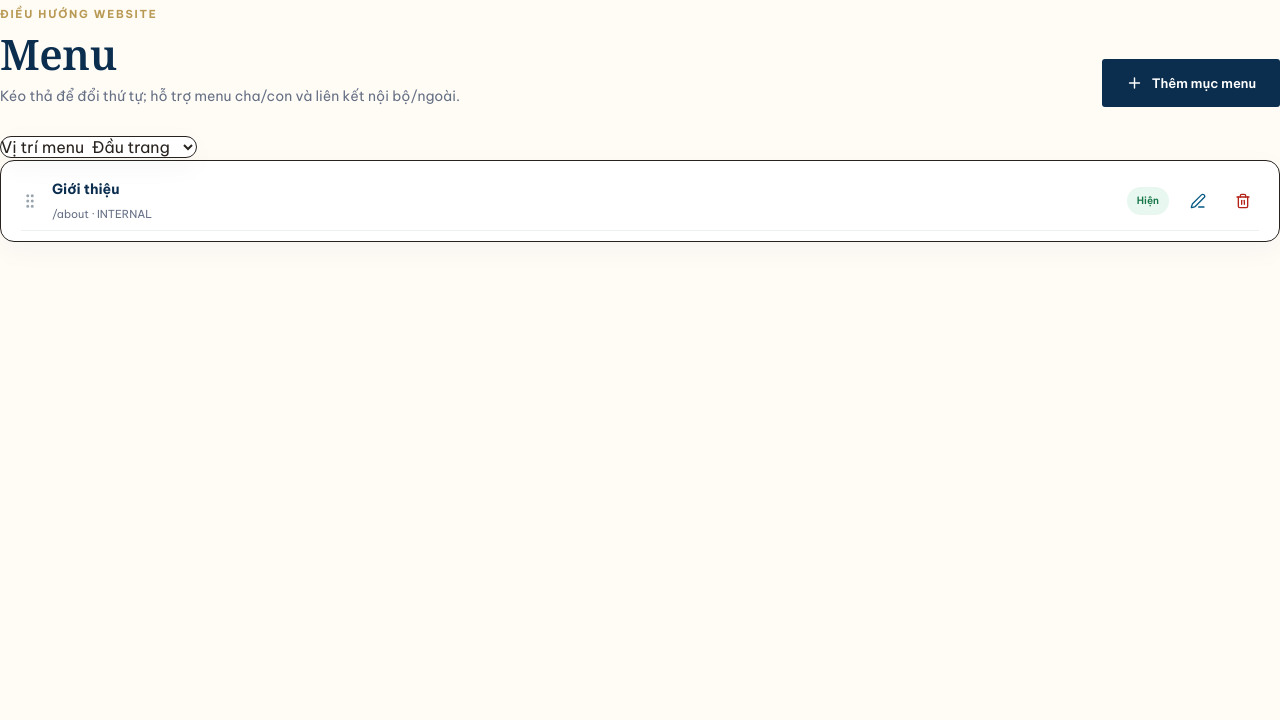
MenuManagerPage dialog save › names item actions and blocks duplicate submission and dismissal while saving
The image size is (1280, 720).
Later steps or results of the test are not shown.
Expected: the button named "Xóa mục menu Giới thiệu" is shown, [1227,181,1259,221]
Click the button named "Chỉnh sửa mục menu Giới thiệu".
click(1198, 201)  # box [1182,181,1214,221]
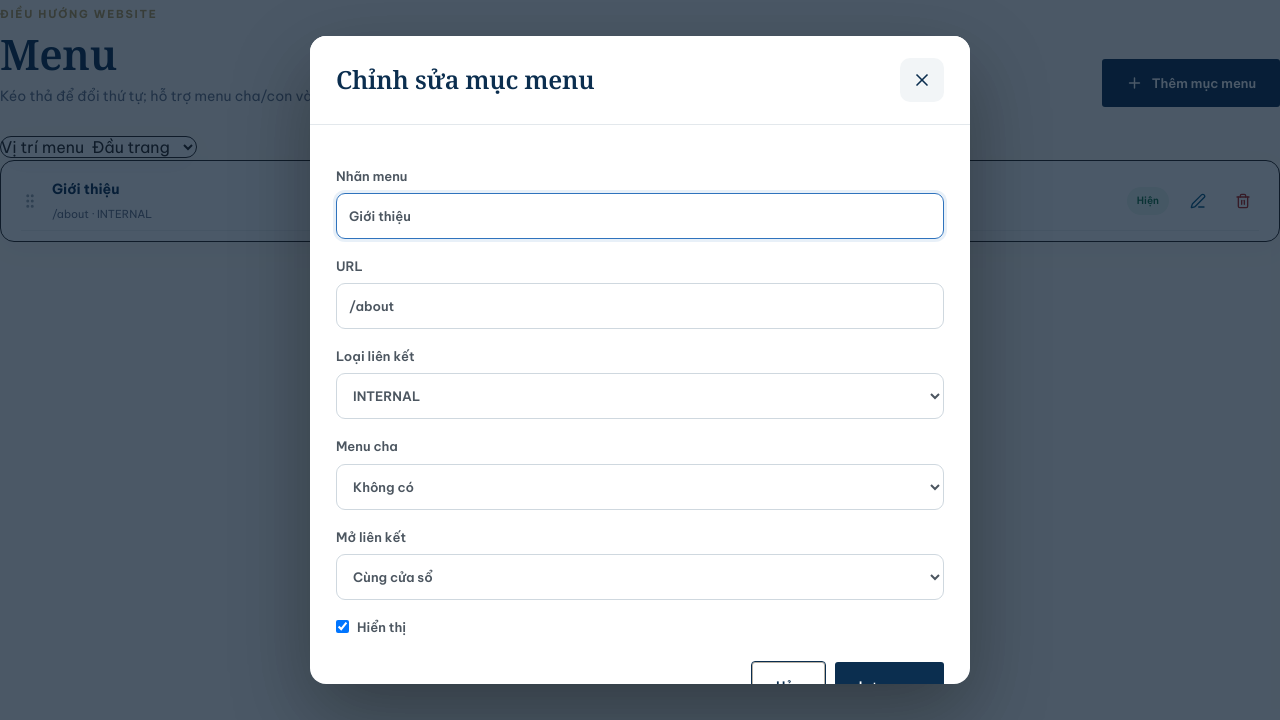
Submit the form "Lưu menu", box [336,166,944,710]
Submit the form "Lưu menu", box [336,166,944,710]
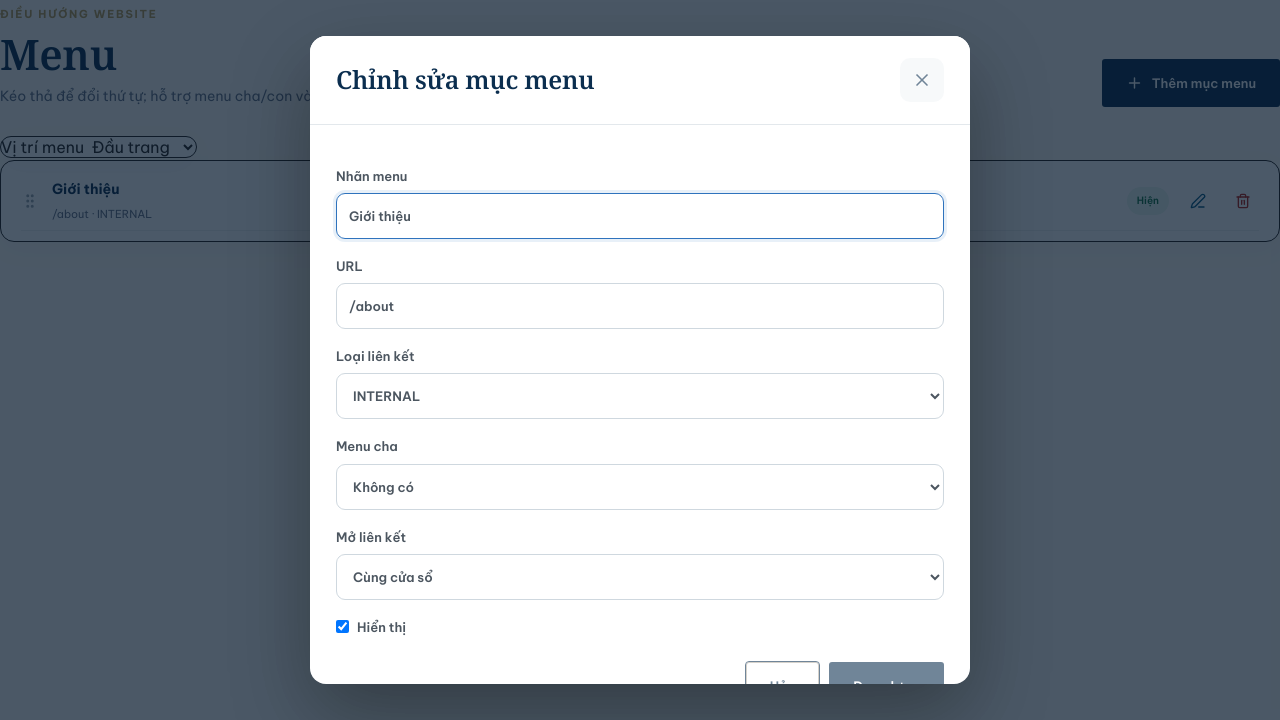
Press Escape
Click the element with class "admin-dialog-backdrop".
click(77, 360)  # box [0,0,1279,719]
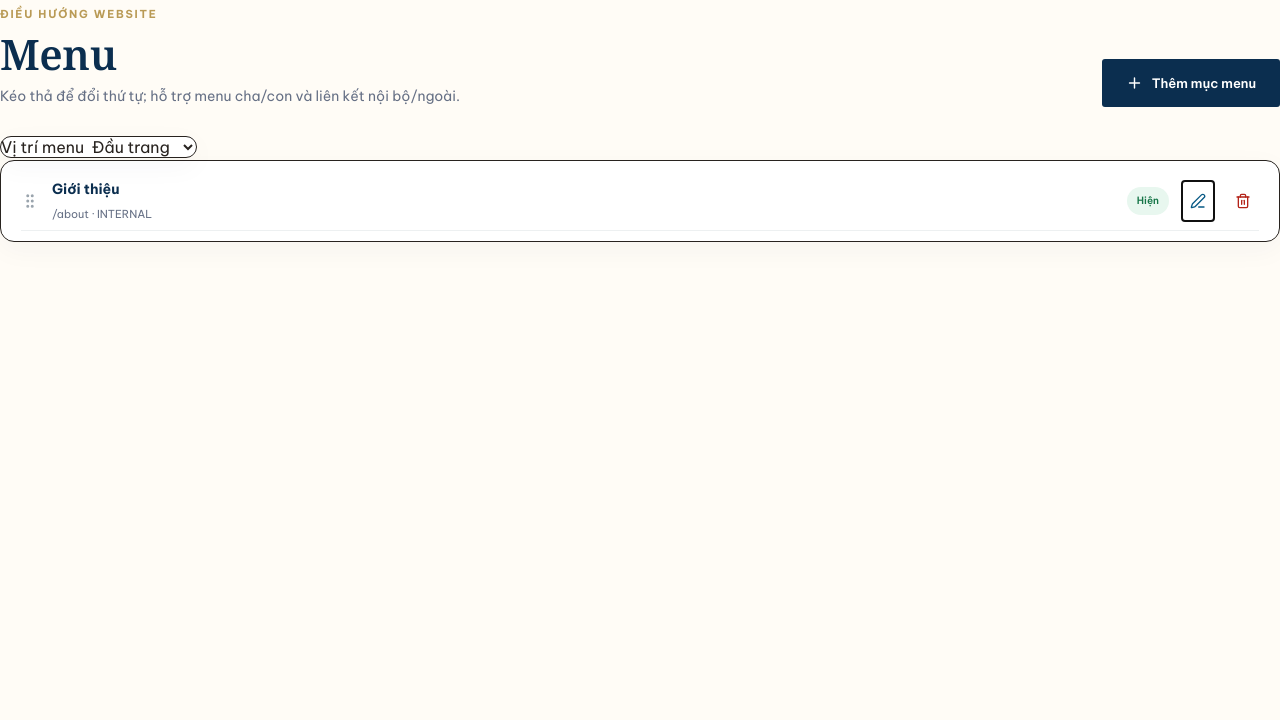
Now the dialog is gone
